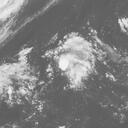cyclone: (56, 32, 94, 87)
